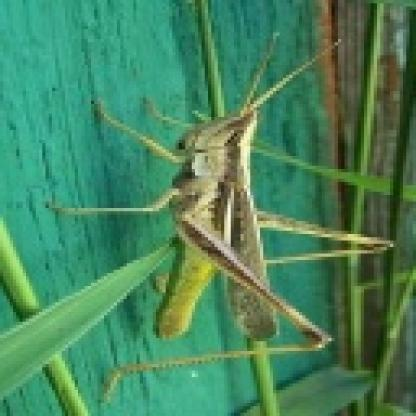grasshopper: (64, 40, 392, 391)
